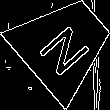N_NE: (33, 12, 96, 76)
